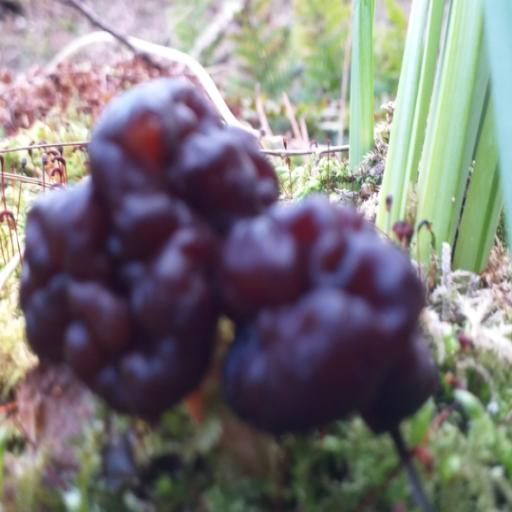False Morel: (0, 54, 476, 512)
